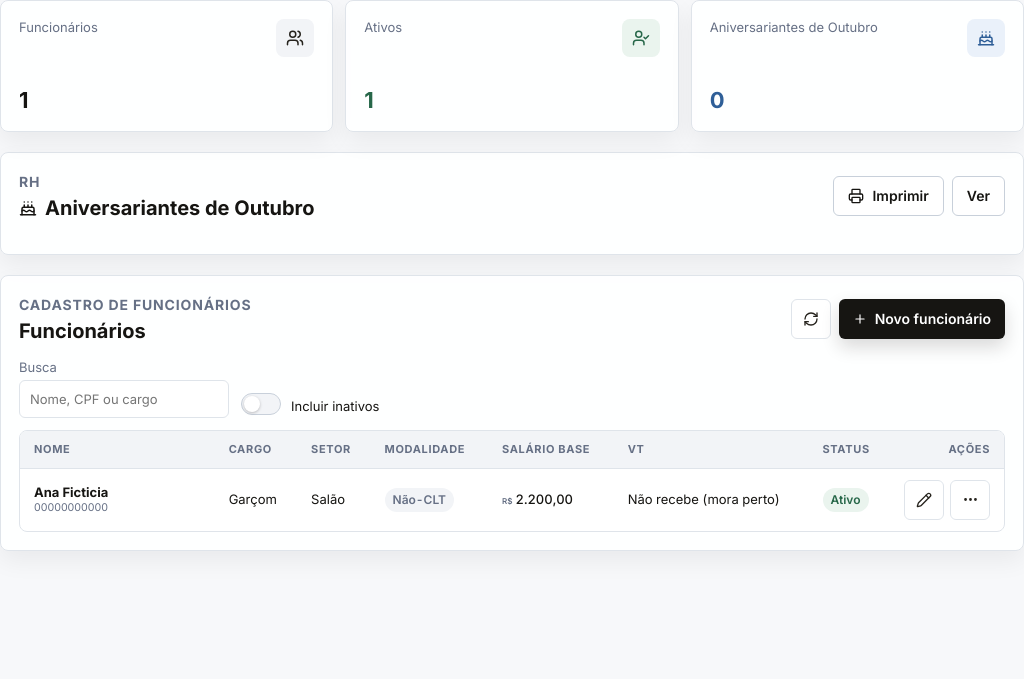
Test: ficha: motivo obrigatório quando a alteração é retroativa › data de hoje: motivo continua opcional
Click the button named "Editar".
click(924, 500)  # box [904,480,944,520]
(page scrolled)
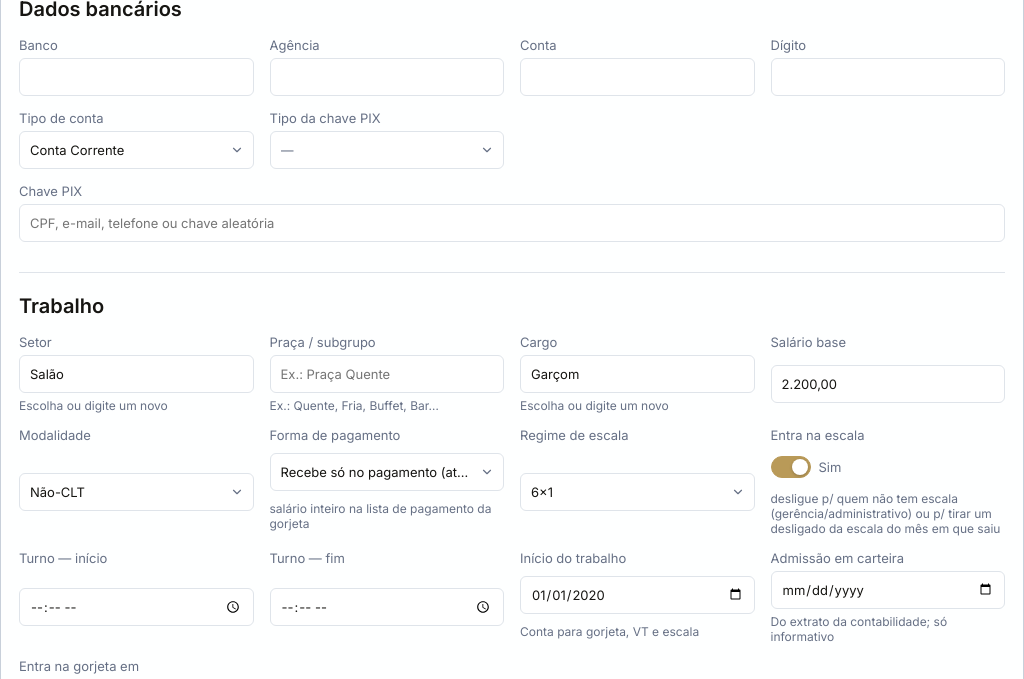
Replace the text in the field labelled "Salário base" with "250000" at (888, 384), box [770,364,1005,402]
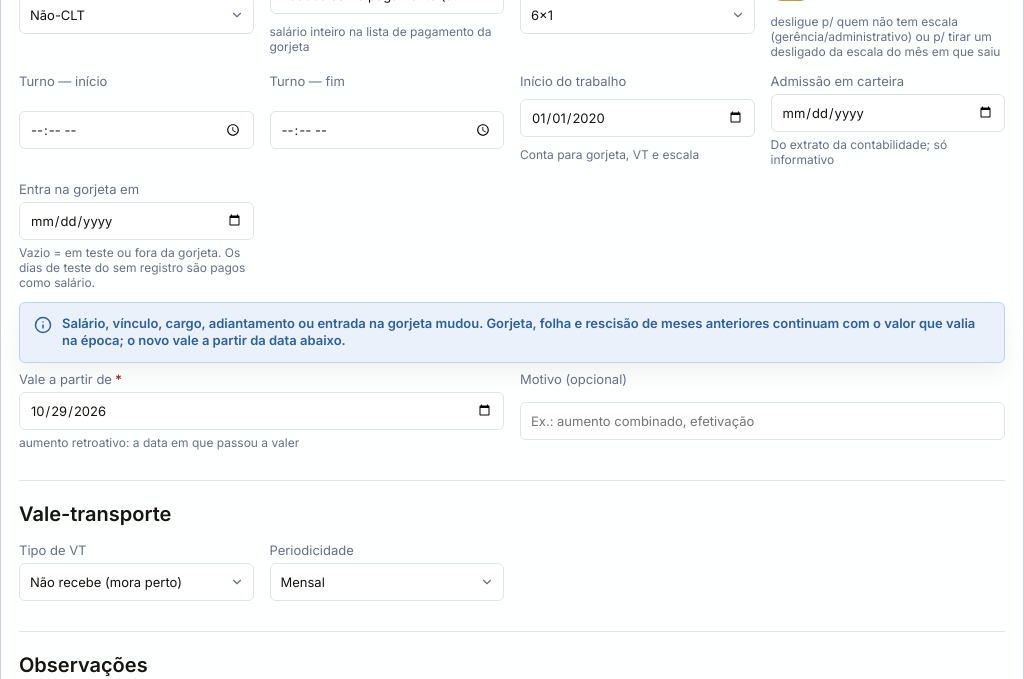
Expected: the field named "Motivo da alteração" is shown, [520,402,1005,440]
Expected: the text "Motivo (opcional)" is shown, [520,371,627,387]
